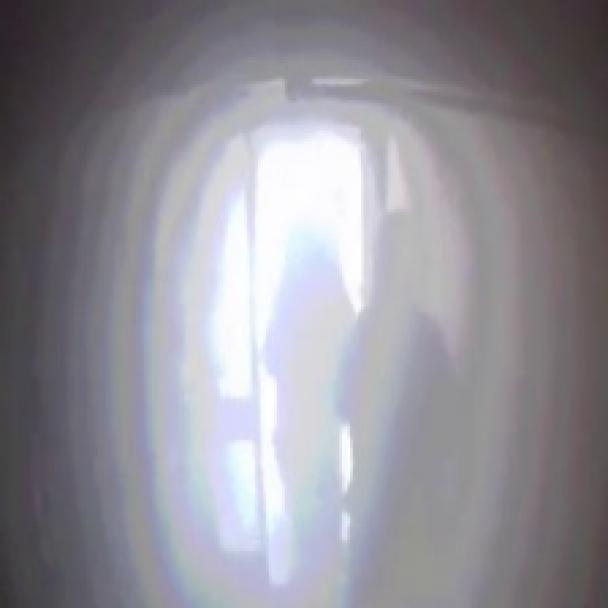smoke: (63, 10, 555, 570)
